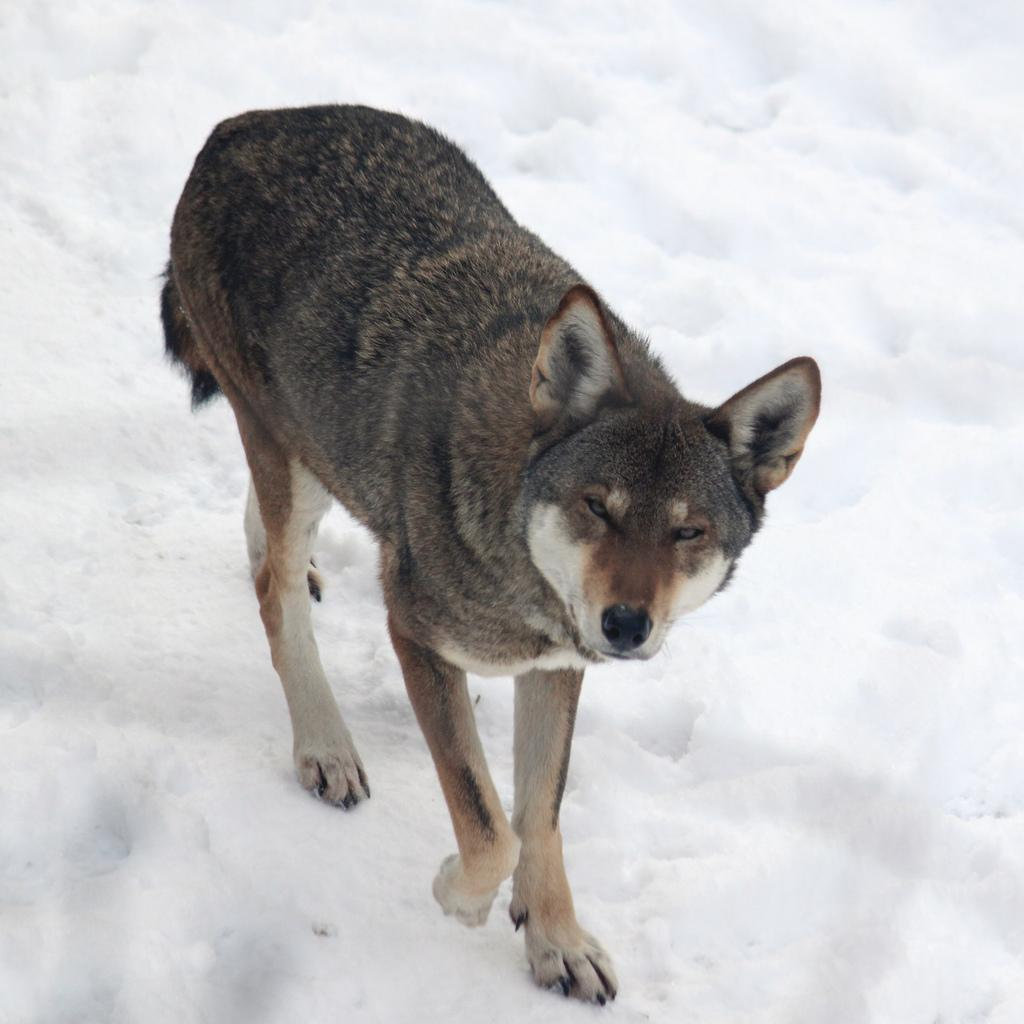Wolf: (161, 94, 825, 996)
